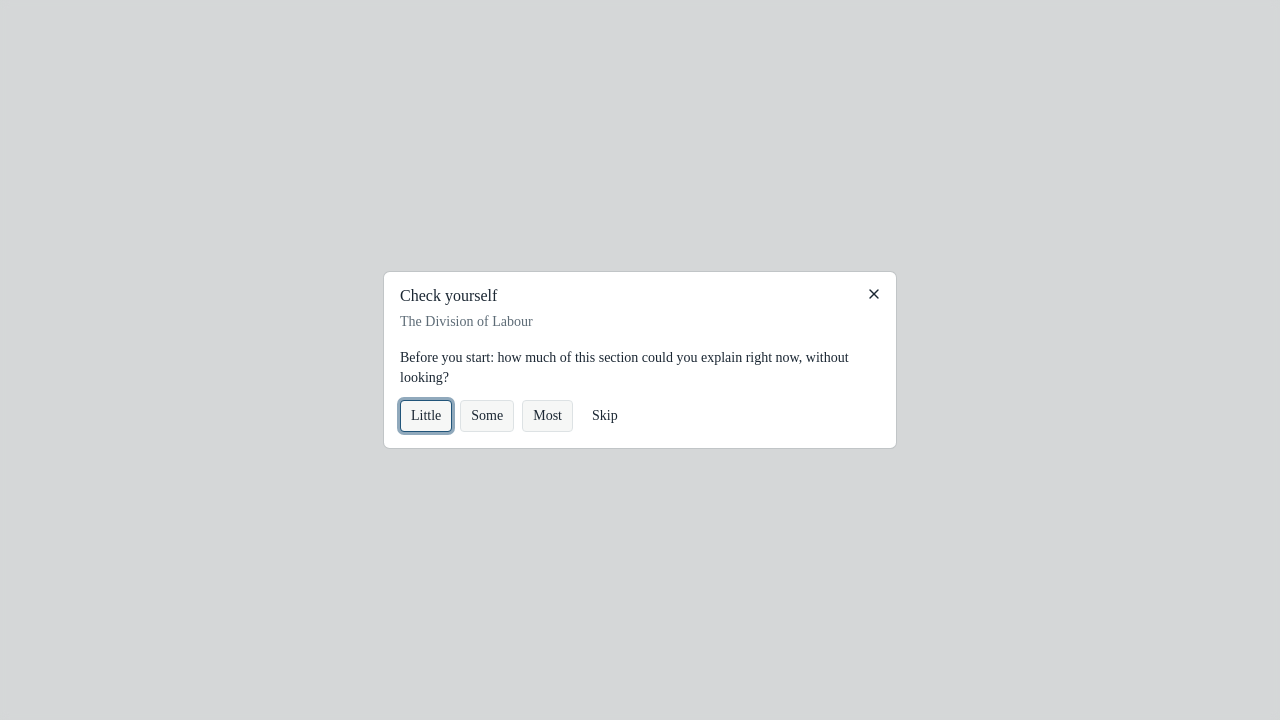
CheckpointDialog › grading a recall moves on to the explanation with an empty draft
Click the button "Some".
click(487, 416)  # box top-left (460, 400), bottom-right (514, 432)
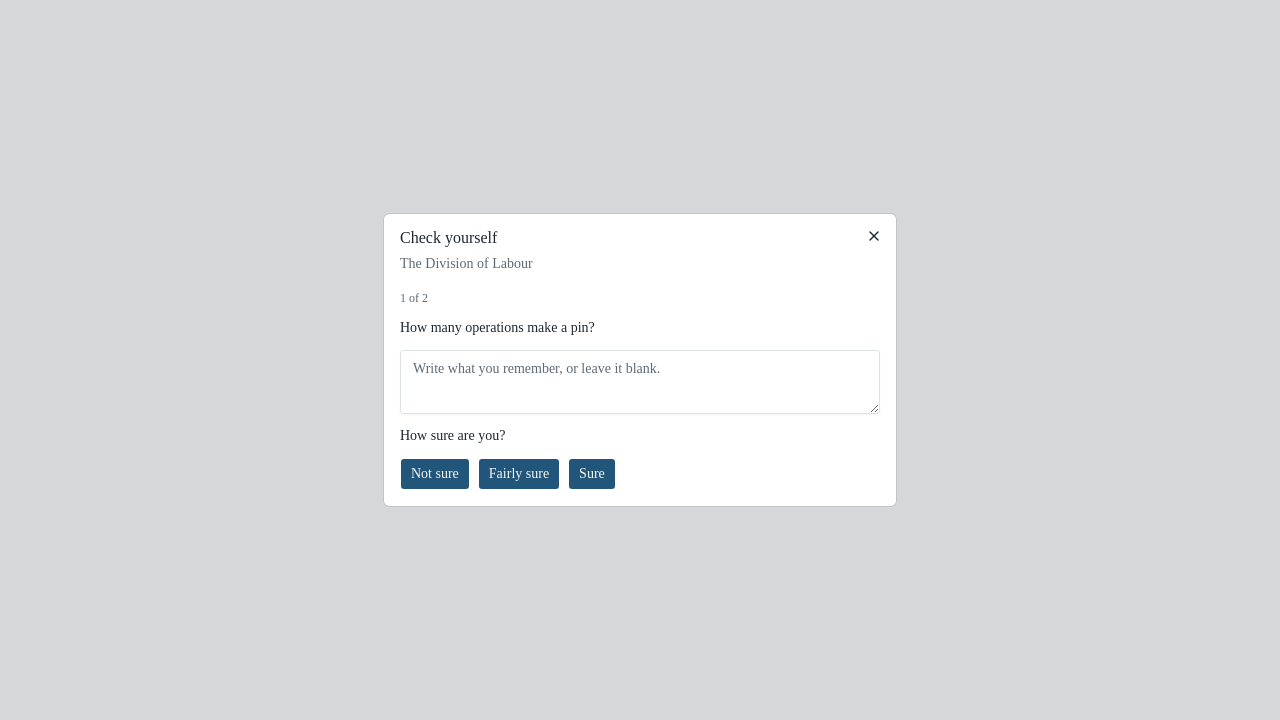
Type "eighteen?" into the text box named "Your answer".
click(640, 382); type("eighteen?")  # box top-left (400, 350), bottom-right (880, 414)
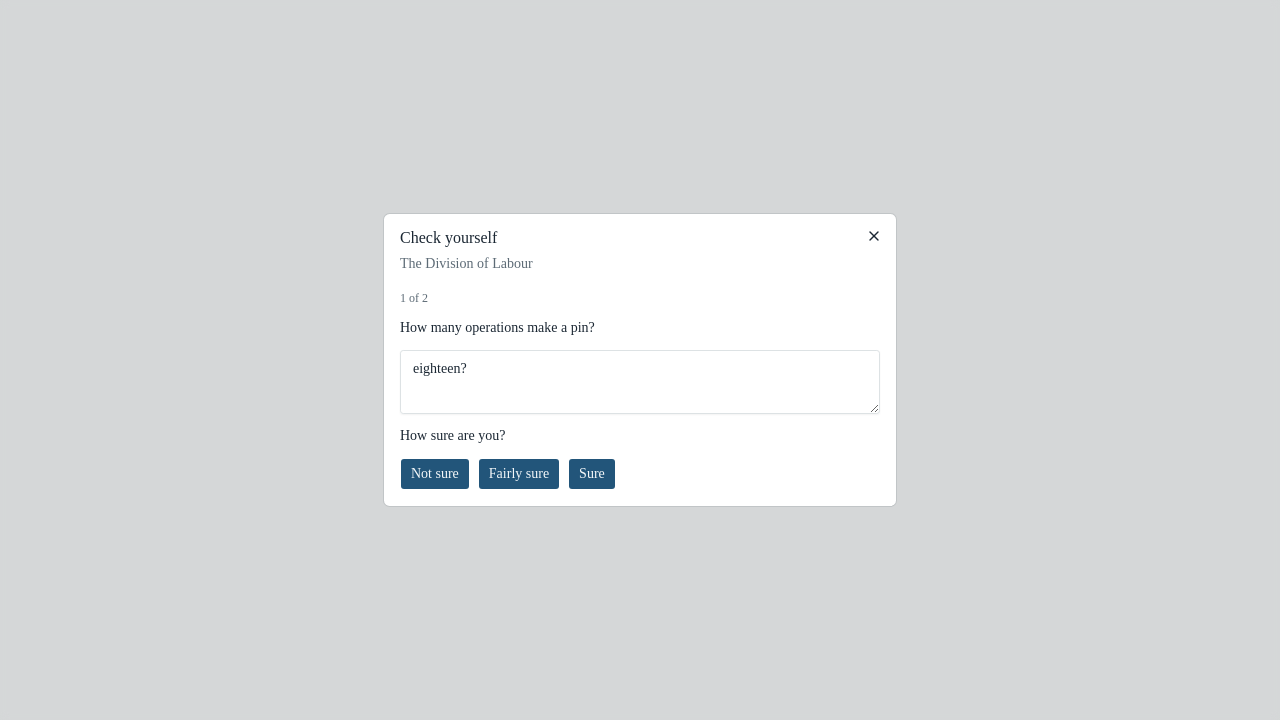
Click the button "Sure".
click(592, 474)  # box top-left (568, 458), bottom-right (616, 490)
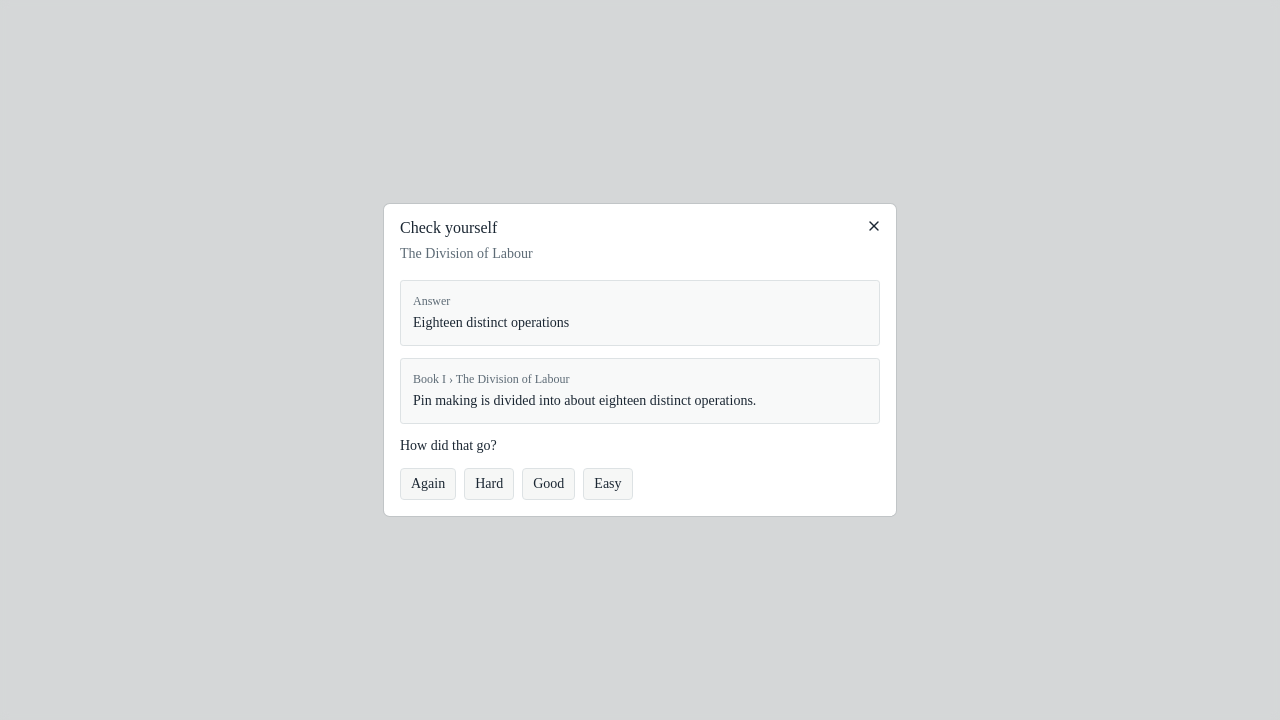
Click the button "Good".
click(549, 484)  # box top-left (522, 468), bottom-right (575, 500)
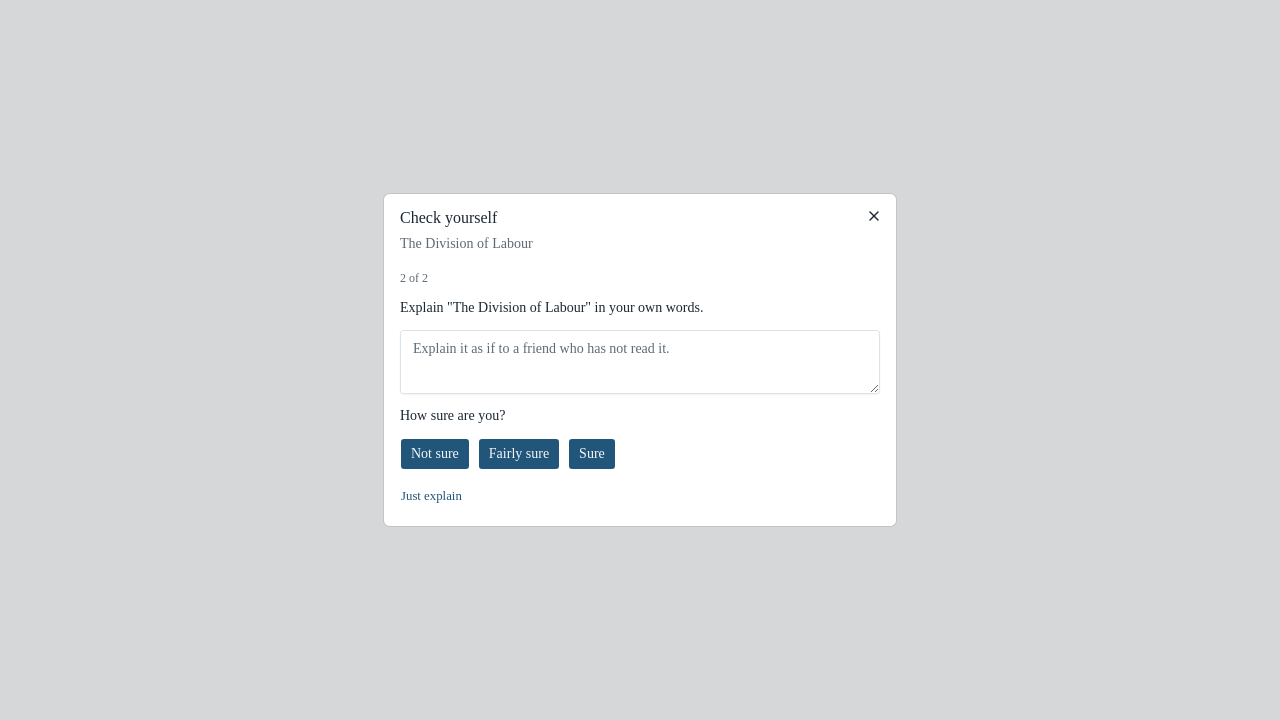
Expected: the text "2 of 2" is shown, top-left (400, 271), bottom-right (428, 285)
Expected: the text box named "Your explanation" is empty, top-left (400, 330), bottom-right (880, 394)
